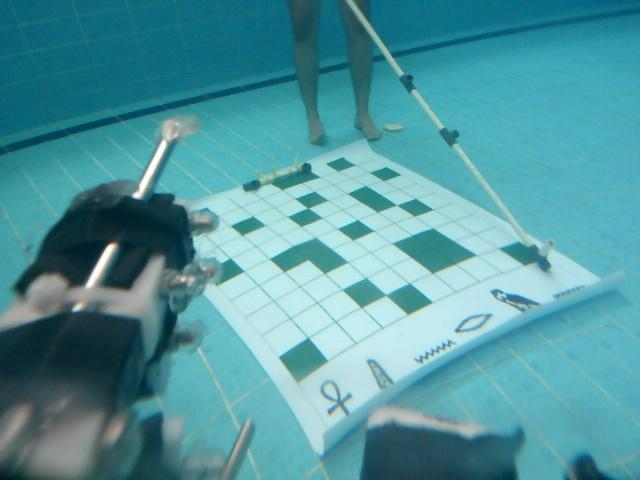Ankh: (312, 379, 354, 420)
Mouth: (456, 309, 494, 336)
Owl: (490, 286, 547, 316)
Reed: (359, 351, 399, 396)
Water: (414, 339, 454, 371)
